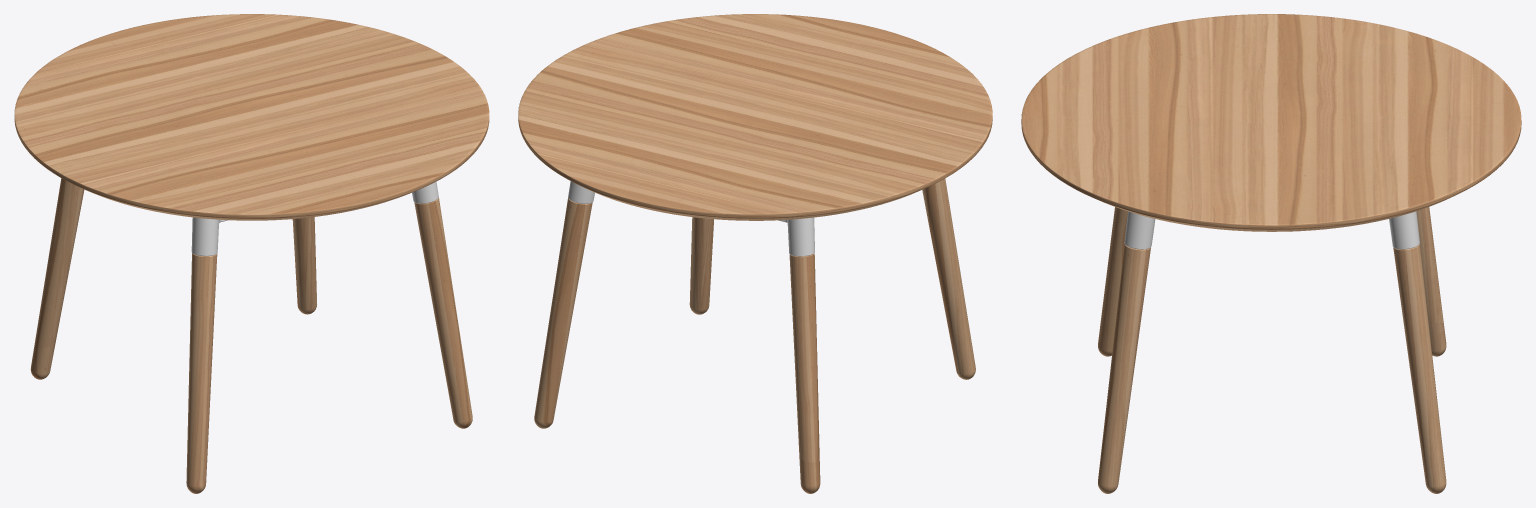
File: edelweiss_round_table_ash_and_white.glb
3 renders of one model, left to right at view 1: azimuth 30°, elevation 25°; view 2: azimuth 150°, elevation 25°; view 3: azimuth 270°, elevation 25°, orthographic. The views are drawn at different scales.
Parts seen in each view (by area): view 1: Edelweiss_Round_Dining_Table_Walnut_and_Black_WALNUT_0, Edelweiss_Round_Dining_Table_Walnut_and_Black_BLACK_0; view 2: Edelweiss_Round_Dining_Table_Walnut_and_Black_WALNUT_0, Edelweiss_Round_Dining_Table_Walnut_and_Black_BLACK_0; view 3: Edelweiss_Round_Dining_Table_Walnut_and_Black_WALNUT_0, Edelweiss_Round_Dining_Table_Walnut_and_Black_BLACK_0.
Boxes of the visible parts, x1=… form: Edelweiss_Round_Dining_Table_Walnut_and_Black_WALNUT_0: x1=14, y1=14, x2=489, y2=493; Edelweiss_Round_Dining_Table_Walnut_and_Black_BLACK_0: x1=191, y1=181, x2=438, y2=256; Edelweiss_Round_Dining_Table_Walnut_and_Black_WALNUT_0: x1=518, y1=14, x2=992, y2=493; Edelweiss_Round_Dining_Table_Walnut_and_Black_BLACK_0: x1=568, y1=181, x2=814, y2=256; Edelweiss_Round_Dining_Table_Walnut_and_Black_WALNUT_0: x1=1021, y1=14, x2=1521, y2=493; Edelweiss_Round_Dining_Table_Walnut_and_Black_BLACK_0: x1=1124, y1=211, x2=1419, y2=249.
Size of what is drawn, in the model's own units: 110 by 74.13 by 110.
2 materials, 1 textured.
